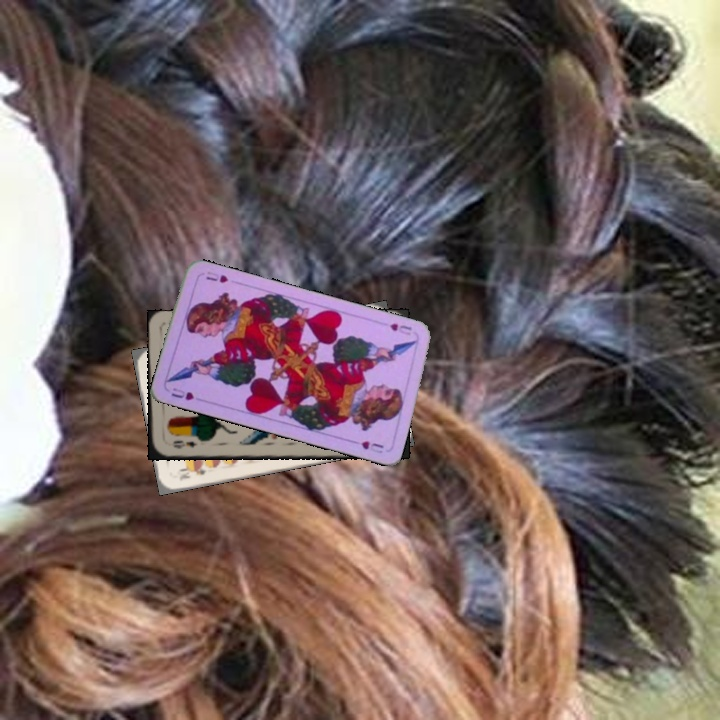E10: (175, 463, 209, 483)
EO: (169, 437, 200, 451)
HU: (167, 383, 205, 404), (384, 319, 414, 334)
